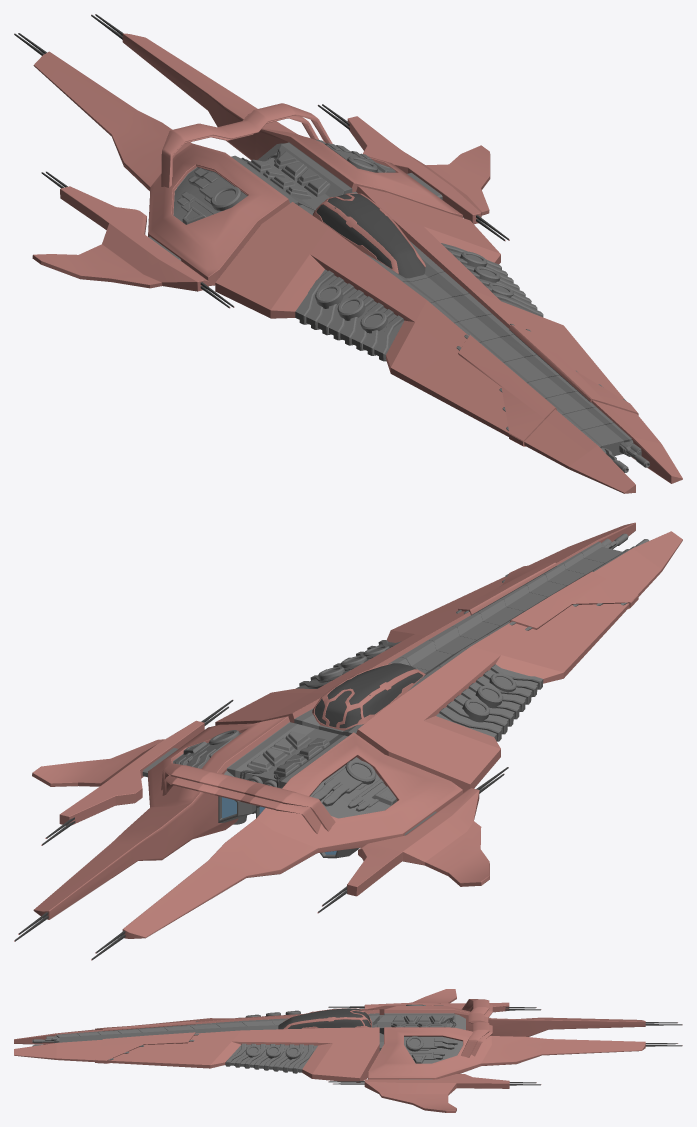
Rendered from enemy_ship_one.fbx.
3 views of the same model, one above another, from view 1: azimuth 30°, elevation 25°; view 2: azimuth 150°, elevation 25°; view 3: azimuth 270°, elevation 25° (orthographic). The views are drawn at different scales.
Visible parts, largest first — view 1: enemy_ship, pCube1, pCube3; view 2: enemy_ship, pCube1, pCube3; view 3: enemy_ship, pCube1, pCube3.
Boxes of the visible parts, x1=… form: enemy_ship: x1=32, y1=33, x2=682, y2=493; pCube1: x1=148, y1=139, x2=649, y2=472; pCube3: x1=14, y1=14, x2=509, y2=307; enemy_ship: x1=32, y1=522, x2=682, y2=938; pCube1: x1=142, y1=533, x2=649, y2=858; pCube3: x1=14, y1=663, x2=508, y2=960; enemy_ship: x1=14, y1=989, x2=645, y2=1112; pCube1: x1=32, y1=1004, x2=465, y2=1079; pCube3: x1=278, y1=1006, x2=682, y2=1085.
Bounding box in the file's own units: 558 × 106 × 1293.
